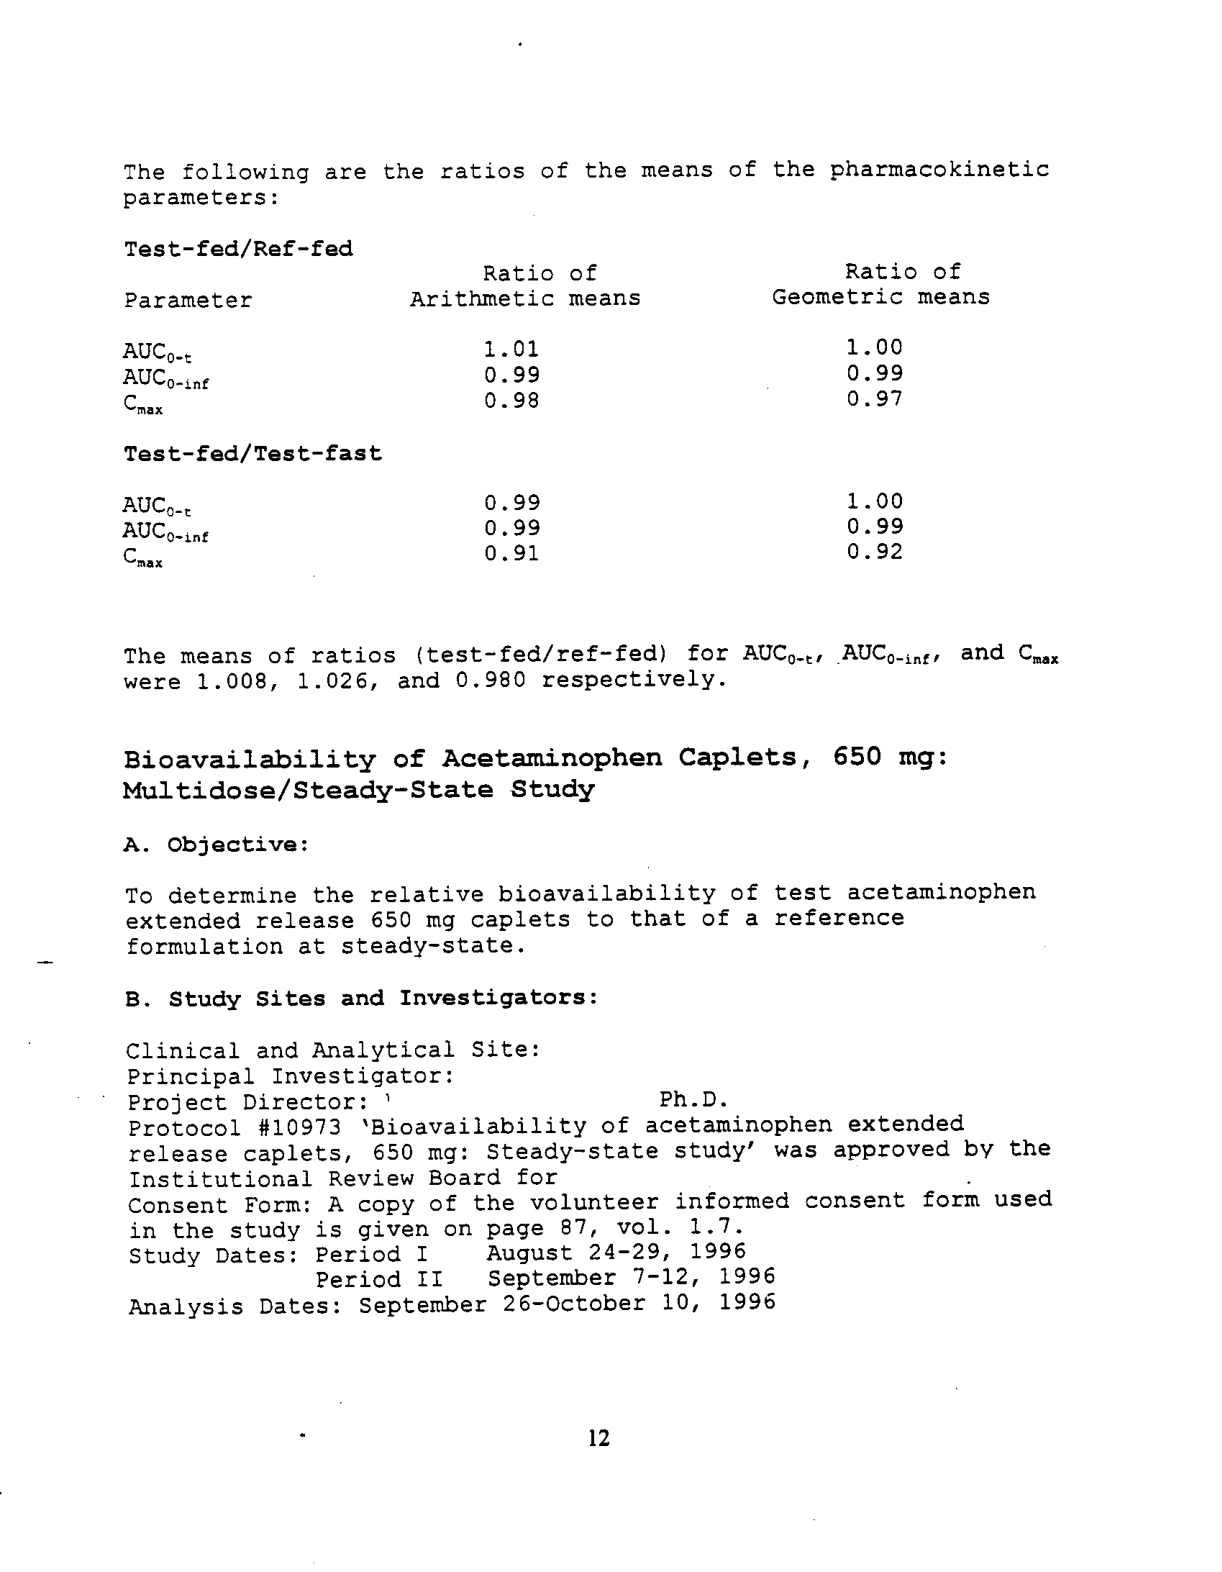nolines: (120, 262, 992, 419), (119, 493, 904, 569)
